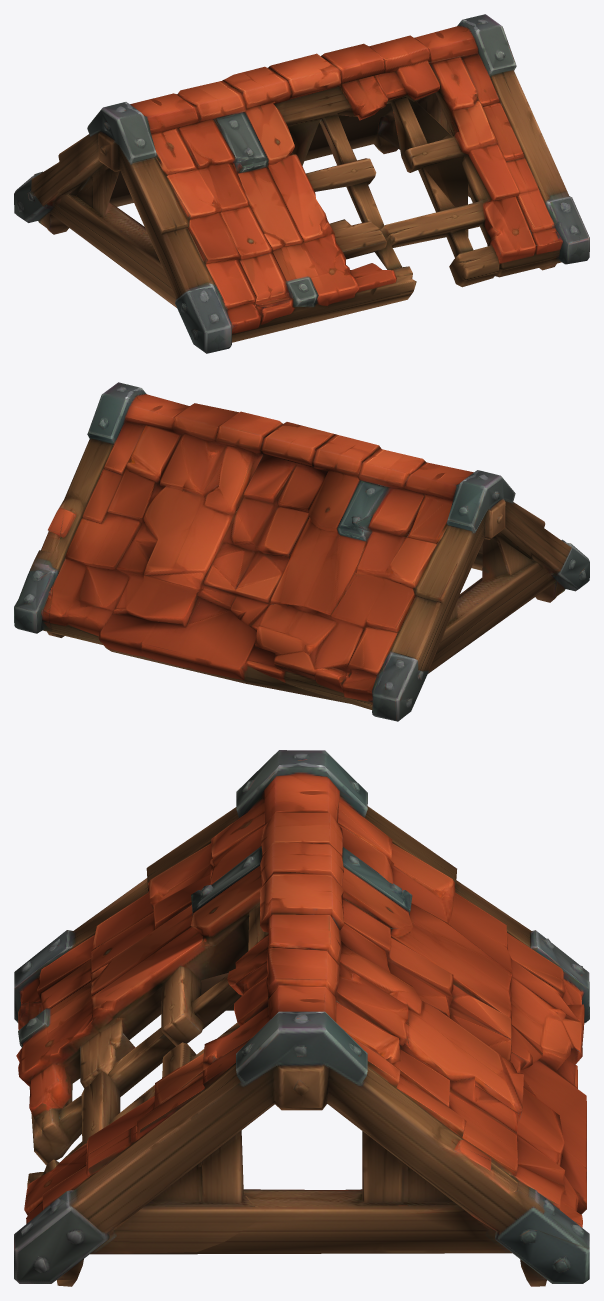
Rendered from Roof2.fbx.
The picture shows the model from 3 angles, top to bottom: view 1: azimuth 30°, elevation 25°; view 2: azimuth 150°, elevation 25°; view 3: azimuth 270°, elevation 25°; orthographic projection. The views are drawn at different scales.
Parts seen in each view (by area): view 1: Mesh_0; view 2: Mesh_0; view 3: Mesh_0.
Part boxes in pixels (box(x1,y1,x2,y2)): Mesh_0: box(14, 14, 589, 353); Mesh_0: box(14, 382, 589, 721); Mesh_0: box(14, 750, 589, 1286).
Size of the model in its own units: 191 by 84.82 by 160.
1 material, 1 textured.
